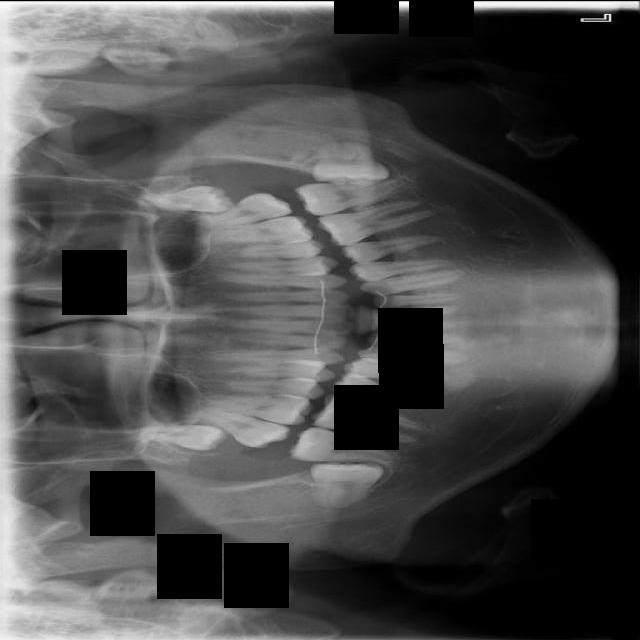3M ESPE Implant: (140, 420, 228, 451)
73: (579, 18, 625, 28)
BioHorizons Implant: (190, 186, 293, 233)
BioLife Implant: (138, 181, 236, 214)
Biomet 3i Implant: (311, 137, 392, 188)
Blue Sky Bio Implant: (294, 177, 403, 217)
Caries: (186, 399, 292, 456)
Implant: (288, 424, 398, 465)
Keystone Dental Implant: (310, 457, 386, 509)
